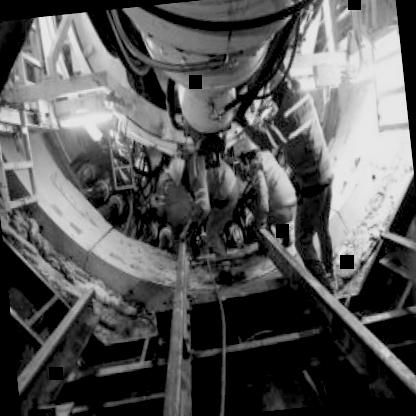helmet: (260, 64, 294, 109), (236, 130, 265, 168), (164, 155, 192, 188)
